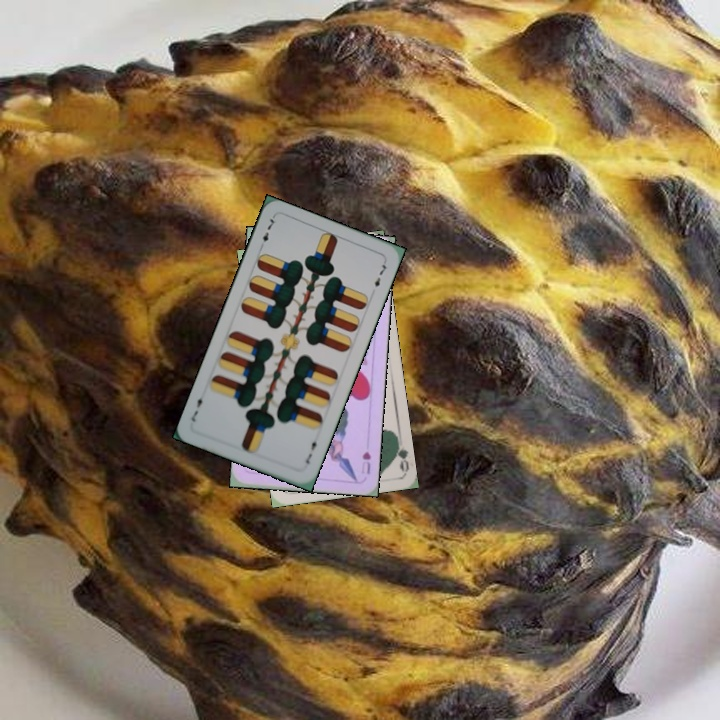E7: (257, 213, 277, 252), (301, 433, 321, 466)
GO: (390, 433, 412, 473)
HU: (357, 447, 373, 477)
